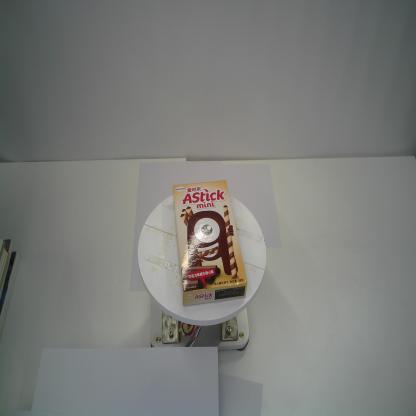Dessert: (171, 176, 248, 308)
